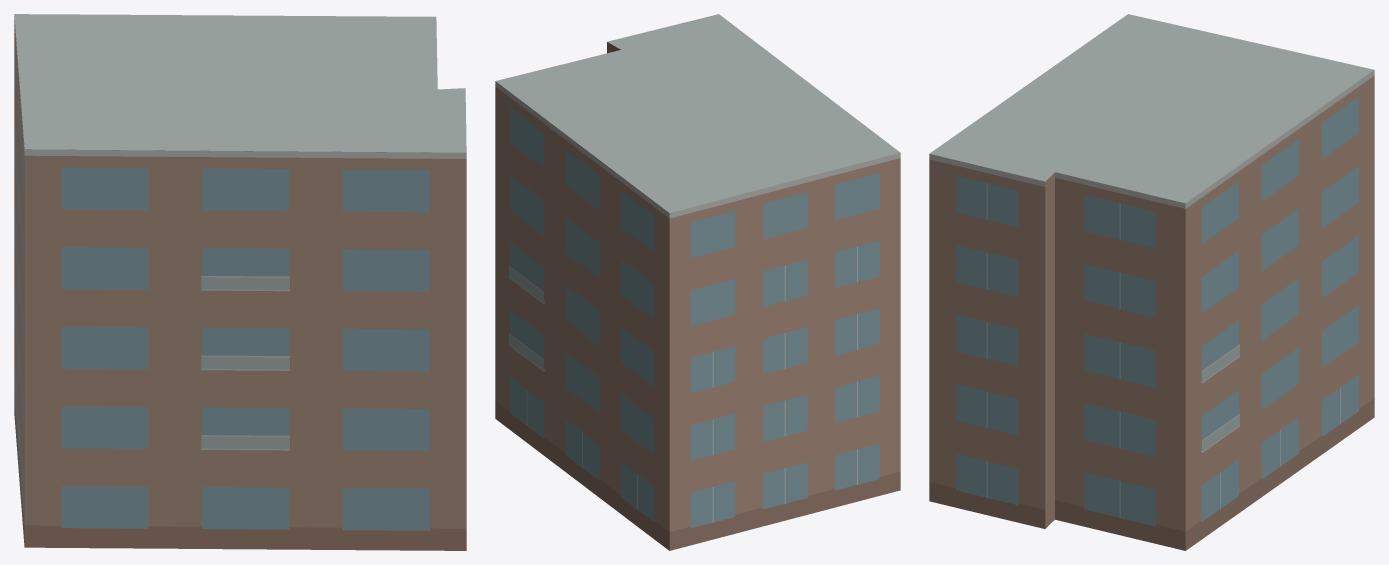
File: survey-upis-32889399.glb
3 views of the same model, side by side, from view 1: azimuth 30°, elevation 25°; view 2: azimuth 150°, elevation 25°; view 3: azimuth 270°, elevation 25° (orthographic). The views are drawn at different scales.
Visible parts, largest first — view 1: survey-upis-32889399.tmp; view 2: survey-upis-32889399.tmp; view 3: survey-upis-32889399.tmp.
Part boxes in pixels (box(x1,y1,x2,y2)): survey-upis-32889399.tmp: box(14, 14, 466, 550); survey-upis-32889399.tmp: box(495, 14, 900, 550); survey-upis-32889399.tmp: box(929, 14, 1374, 550).
Size of the model in its own units: 17.89 by 15.3 by 17.78.
